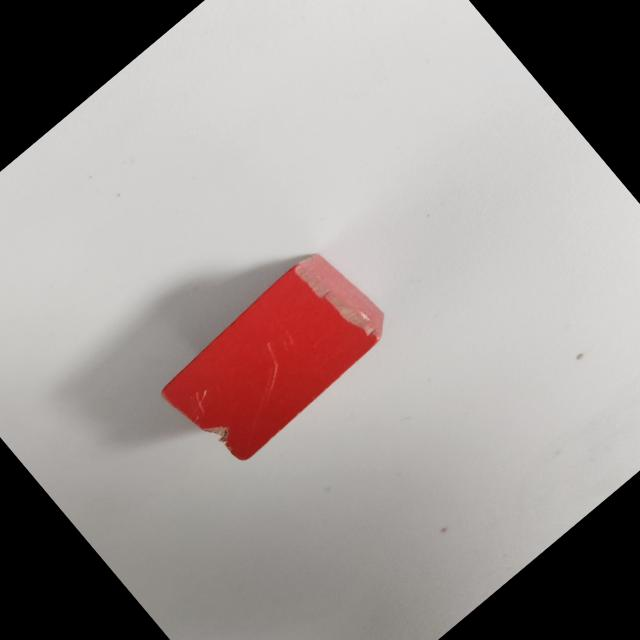broken: (150, 240, 400, 476)
